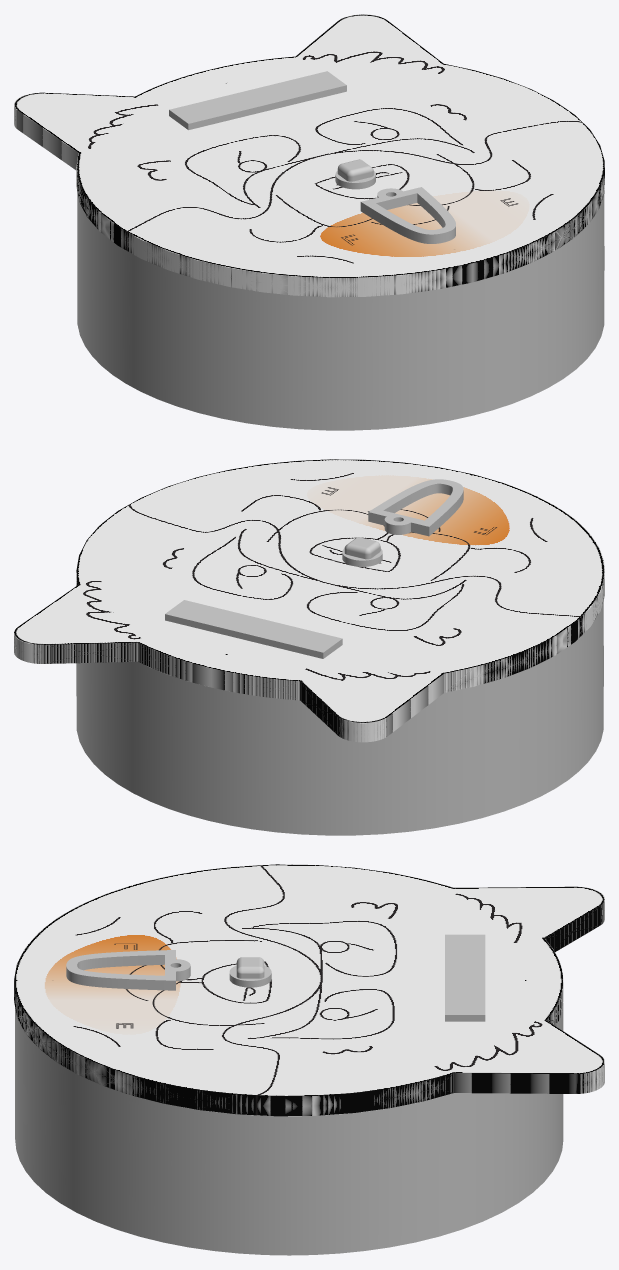
Rendered from dogGuage.fbx.
The picture shows the model from 3 angles, top to bottom: view 1: azimuth 30°, elevation 25°; view 2: azimuth 150°, elevation 25°; view 3: azimuth 270°, elevation 25°; orthographic projection. The views are drawn at different scales.
Visible parts, largest first — view 1: Cover, Base, Magnet Layer, LED Cutout, Tongue, NoseButton; view 2: Cover, Base, LED Cutout, Magnet Layer, Tongue, NoseButton; view 3: Cover, Base, Magnet Layer, Tongue, LED Cutout, NoseButton.
Part boxes in pixels (x1,y1,x2,y2): Cover: (14, 14, 604, 297); Base: (77, 200, 604, 430); Magnet Layer: (77, 191, 604, 306); LED Cutout: (169, 71, 346, 130); Tongue: (360, 187, 455, 243); NoseButton: (335, 159, 375, 189); Cover: (14, 459, 604, 742); Base: (76, 606, 603, 835); LED Cutout: (165, 600, 342, 658); Magnet Layer: (122, 600, 603, 710); Tongue: (368, 479, 463, 536); NoseButton: (342, 537, 382, 566); Cover: (14, 864, 604, 1116); Base: (15, 1011, 563, 1255); Magnet Layer: (15, 1002, 563, 1126); Tongue: (66, 950, 190, 990); LED Cutout: (445, 934, 485, 1021); NoseButton: (229, 957, 271, 987).
Size of the model in its own units: 150 by 53 by 162.
Materials: 2 (1 with a texture image).
